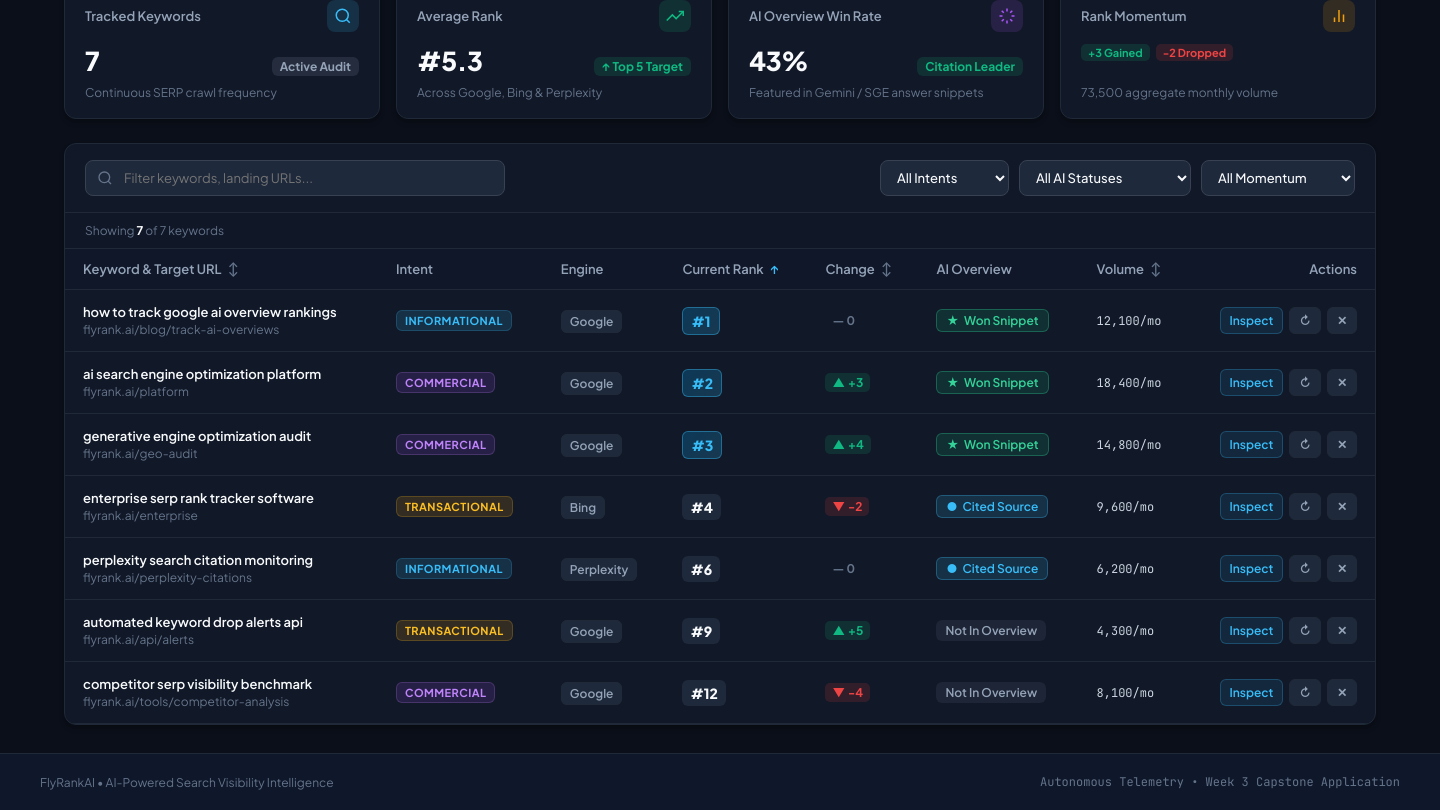
Test: Dashboard Integration Tests › deletes a keyword from the table
(page scrolled)
Expected: the text "competitor serp visibility benchmark" is shown, top-left (83, 676), bottom-right (312, 692)
Step 1. Click the button named "Delete competitor serp visibility benchmark" → [1342, 692], box top-left (1327, 679), bottom-right (1357, 706)
(page scrolled)
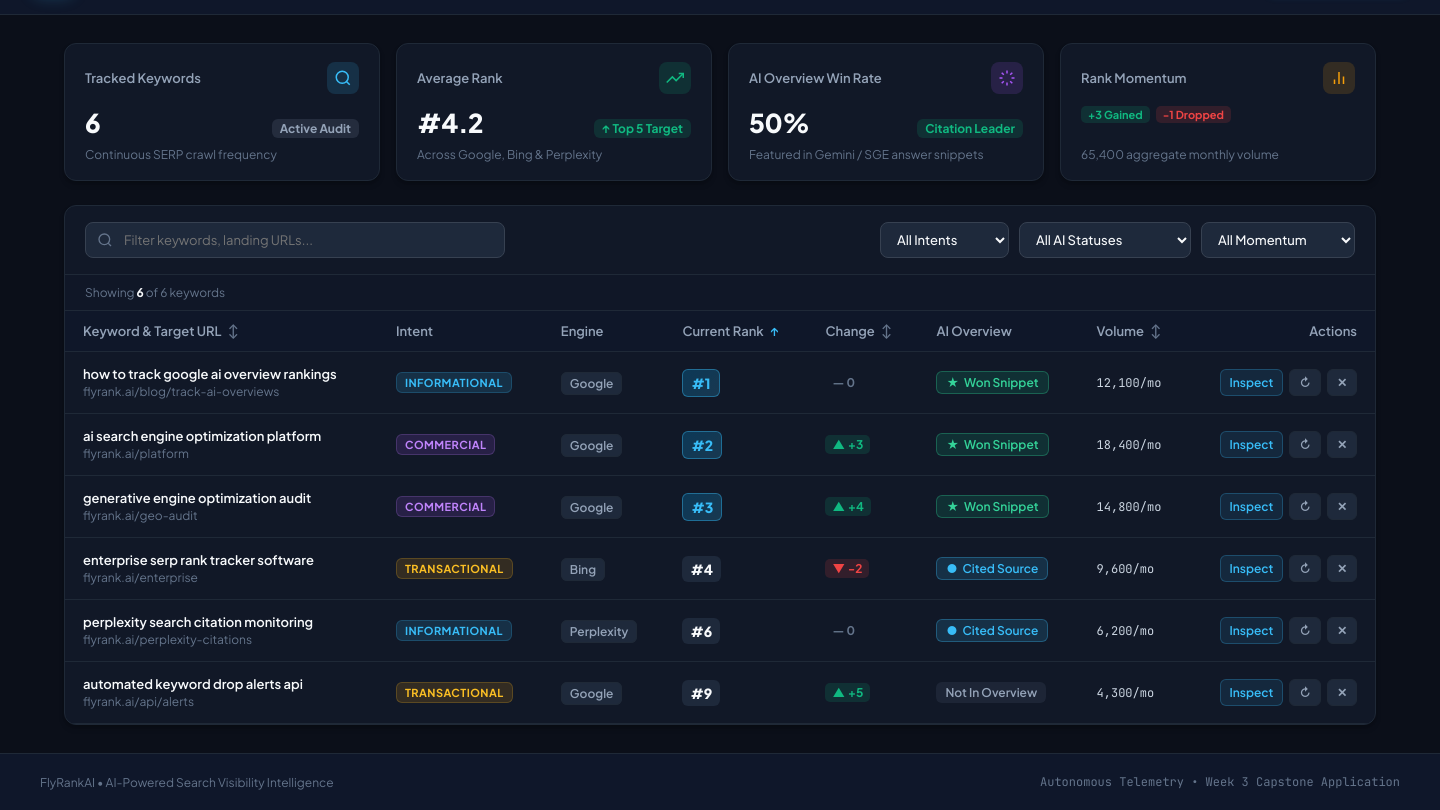
Now the text "competitor serp visibility benchmark" is gone
